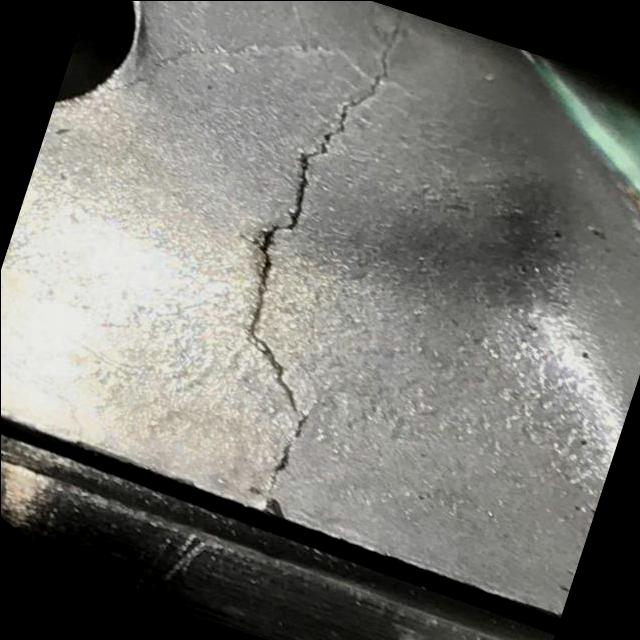defect: (240, 15, 409, 507)
